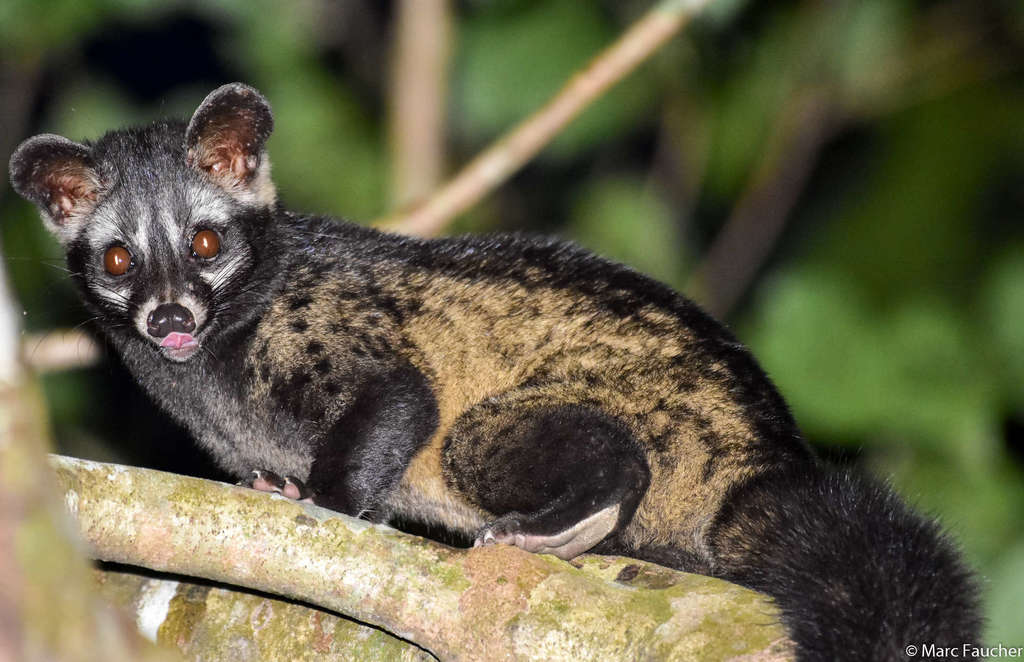Civet: (7, 73, 999, 568)
